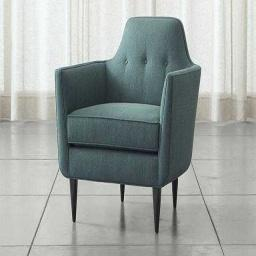Chair: (55, 16, 200, 224)
